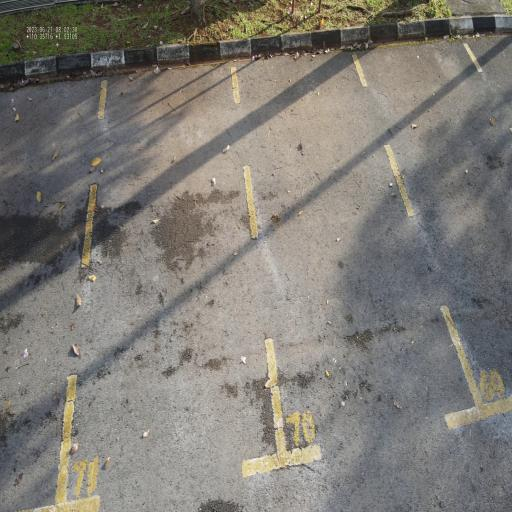Empty: (49, 44, 295, 512), (226, 44, 488, 478)
